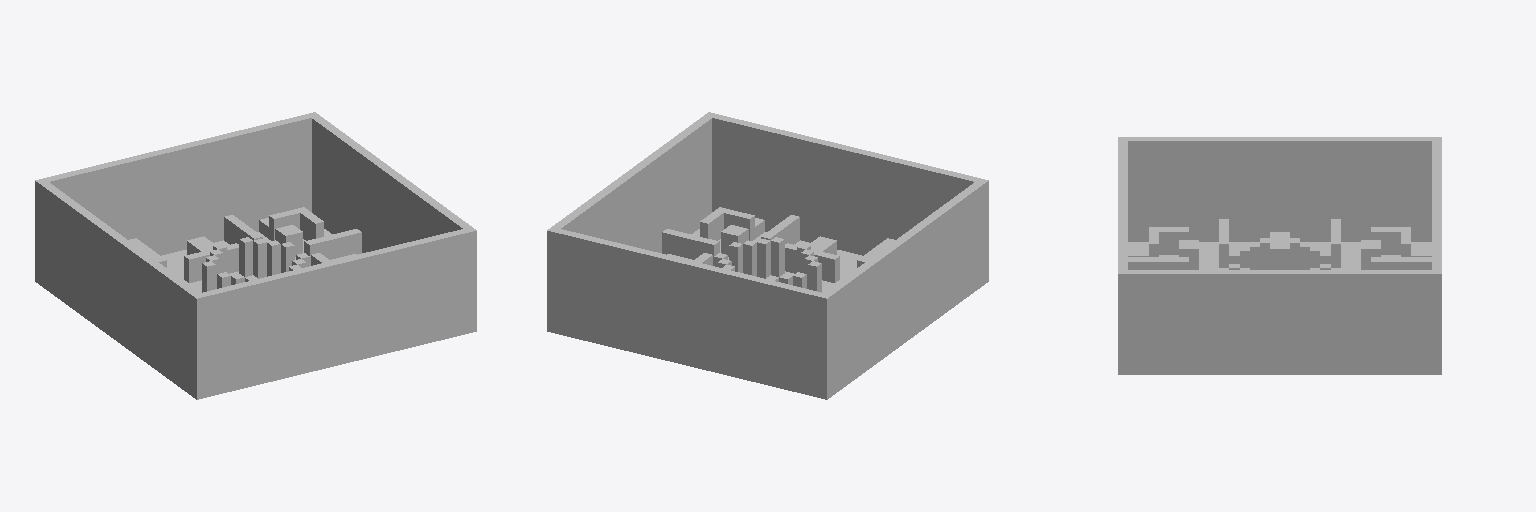
Rendered from blueArena.obj.
3 views of the same model, side by side, from view 1: azimuth 30°, elevation 25°; view 2: azimuth 150°, elevation 25°; view 3: azimuth 270°, elevation 25° (orthographic).
Visible parts, largest first — view 1: Plane; view 2: Plane; view 3: Plane.
Boxes of the visible parts, x1,y1,x2,y2 form: Plane: [35, 112, 476, 399]; Plane: [547, 112, 988, 399]; Plane: [1118, 137, 1441, 374].
Size of the model in its own units: 371 by 128 by 371.